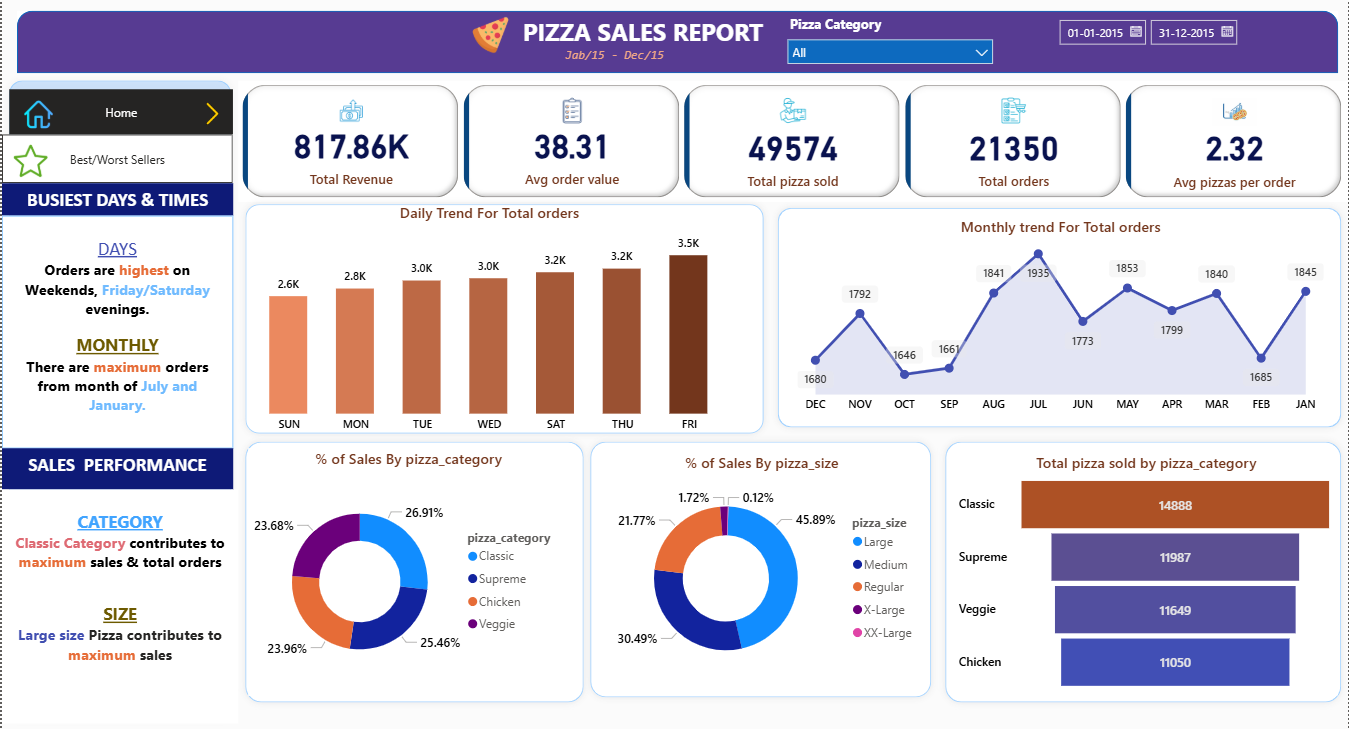

This screenshot's page, from the dashboard's own definition file:
{"tool":"powerbi","page":{"name":"Home","canvas":[1500,820],"ordinal":0},"visuals":[{"type":"cardVisual","fields":{"Data":["pizzadb pizza_sales.Total Revenue","pizzadb pizza_sales.Avg order value","pizzadb pizza_sales.Total pizza sold","pizzadb pizza_sales.Total orders","pizzadb pizza_sales.Avg pizzas per order"]},"box":[263.2,93.3,1236.7,135.1],"z":0},{"type":"shape","box":[0,85,263.2,727],"z":1000},{"type":"shape","box":[16.7,15.3,1472.1,69.6],"z":2000},{"type":"textbox","box":[575.2,15.3,289.7,50.1],"z":3000},{"type":"textbox","box":[622.5,50.1,130.9,34.8],"z":4000},{"type":"image","box":[513.9,16.7,61.3,51.5],"z":5000},{"type":"shape","box":[263.2,222.8,593.3,271.6],"z":6000},{"type":"columnChart","title":"Daily Trend For Total orders","fields":{"Category":["pizzadb pizza_sales.order day"],"Y":["pizzadb pizza_sales.Total orders"]},"box":[263.2,228.4,559.9,266],"z":7000},{"type":"shape","box":[856.5,227,643.4,260.4],"z":8000},{"type":"shape","box":[263.2,487.4,392.7,306.4],"z":9000},{"type":"areaChart","title":"Monthly trend For Total orders ","fields":{"Y":["pizzadb pizza_sales.Total orders"],"Category":["pizzadb pizza_sales.order Month"]},"box":[881.6,243.7,596.1,228.4],"z":10000},{"type":"shape","box":[647.6,487.4,395.5,300.8],"z":11000},{"type":"shape","box":[1043.1,487.4,456.8,306.4],"z":12000},{"type":"donutChart","title":"% of Sales By pizza_category","fields":{"Category":["pizzadb pizza_sales.pizza_category"],"Y":["pizzadb pizza_sales.Total Revenue"]},"box":[274.4,502.8,357.9,275.7],"z":13000},{"type":"donutChart","title":"% of Sales By pizza_size","fields":{"Y":["pizzadb pizza_sales.Total Revenue"],"Category":["pizzadb pizza_sales.pizza_size"]},"box":[661.5,506.9,370.5,260.4],"z":14000},{"type":"funnel","fields":{"Category":["pizzadb pizza_sales.pizza_category"],"Y":["pizzadb pizza_sales.Total pizza sold"]},"box":[1061.2,506.9,427.5,271.6],"z":15000},{"type":"textbox","box":[0,207.5,257.6,36.2],"z":16000},{"type":"textbox","box":[0,243.7,257.6,259],"z":17000},{"type":"textbox","box":[0,548.7,263.2,260.4],"z":18000},{"type":"textbox","box":[0,502.8,257.6,46],"z":19000},{"type":"slicer","fields":{"Values":["pizzadb pizza_sales.pizza_category"]},"box":[864.8,15.3,249.3,69.6],"z":20000},{"type":"slicer","fields":{"Values":["pizzadb pizza_sales.order_date"]},"box":[1165.7,15.3,227,52.9],"z":21000},{"type":"pageNavigator","box":[8.4,103.1,249.3,50.1],"z":22000},{"type":"pageNavigator","box":[0,153.2,257.6,54.3],"z":23000},{"type":"image","box":[206.1,112.8,57.1,34.8],"z":24000},{"type":"image","box":[16.7,110,47.4,41.8],"z":25000},{"type":"image","box":[8.4,157.4,47.4,50.1],"z":26000}]}

Visuals, with their boxes on the page's 1500x820 design canvas (x1, y1, x2, y2). These are canvas units, not pixel positions in the 1349x729 screenshot, which may show the page scaled, cropped or inside an application window:
cardVisual - pizzadb pizza_sales.Total Revenue x pizzadb pizza_sales.Avg order value: (263,93,1500,228)
shape: (0,85,263,812)
shape: (17,15,1489,85)
textbox: (575,15,865,65)
textbox: (622,50,753,85)
image: (514,17,575,68)
shape: (263,223,856,494)
"Daily Trend For Total orders" columnChart: (263,228,823,494)
shape: (856,227,1500,487)
shape: (263,487,656,794)
"Monthly trend For Total orders " areaChart: (882,244,1478,472)
shape: (648,487,1043,788)
shape: (1043,487,1500,794)
"% of Sales By pizza_category" donutChart: (274,503,632,778)
"% of Sales By pizza_size" donutChart: (662,507,1032,767)
funnel - pizzadb pizza_sales.pizza_category x pizzadb pizza_sales.Total pizza sold: (1061,507,1489,778)
textbox: (0,208,258,244)
textbox: (0,244,258,503)
textbox: (0,549,263,809)
textbox: (0,503,258,549)
slicer - pizzadb pizza_sales.pizza_category: (865,15,1114,85)
slicer - pizzadb pizza_sales.order_date: (1166,15,1393,68)
pageNavigator: (8,103,258,153)
pageNavigator: (0,153,258,208)
image: (206,113,263,148)
image: (17,110,64,152)
image: (8,157,56,208)
